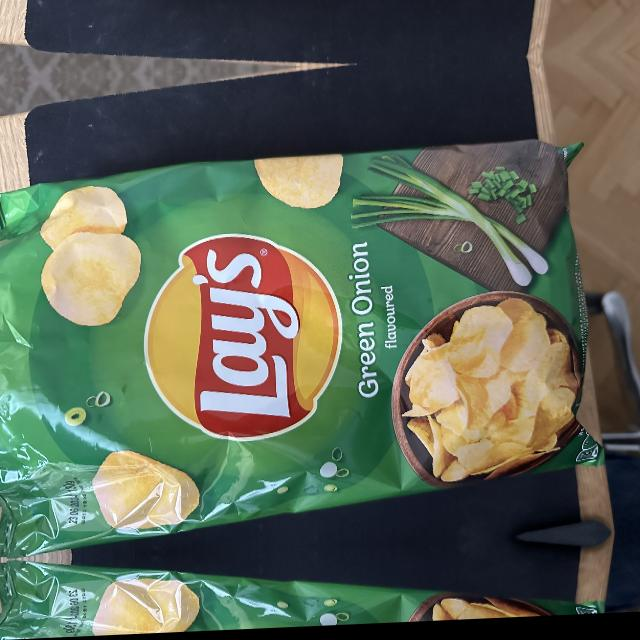lays: (146, 237, 344, 445)
